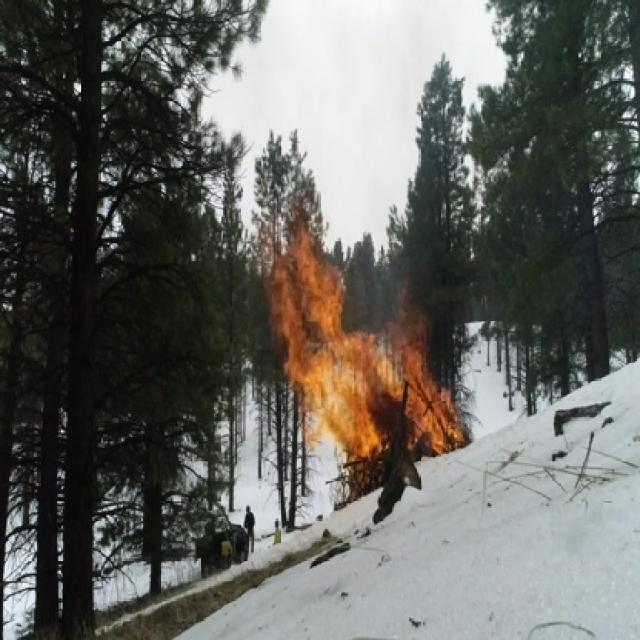Fire: (257, 192, 472, 477)
